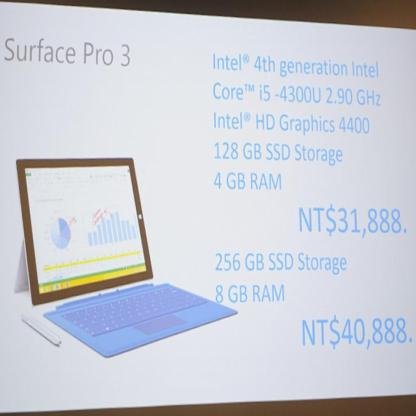board: (18, 150, 219, 364)
